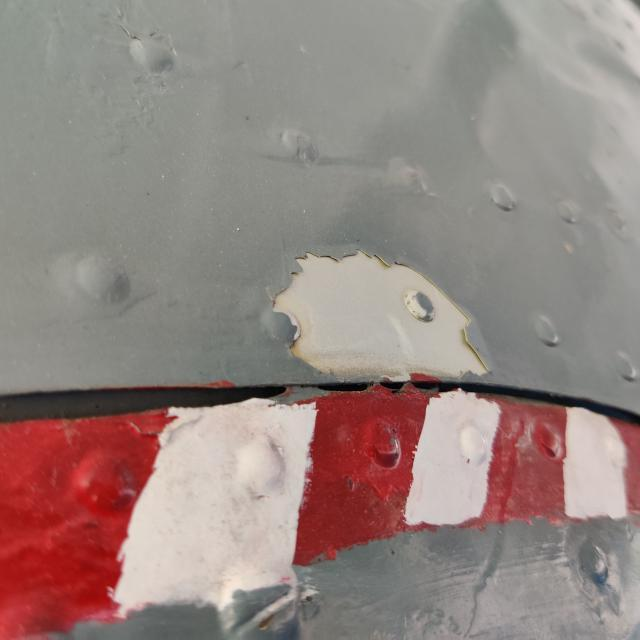Paint-off: (274, 251, 488, 382)
